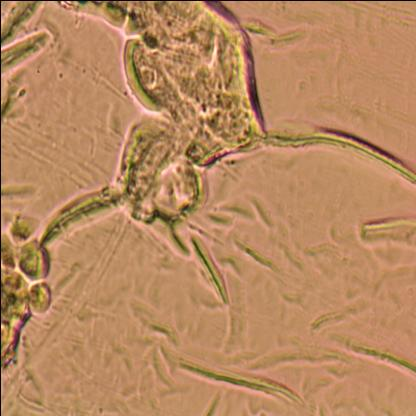Normal: (75, 0, 302, 243)
